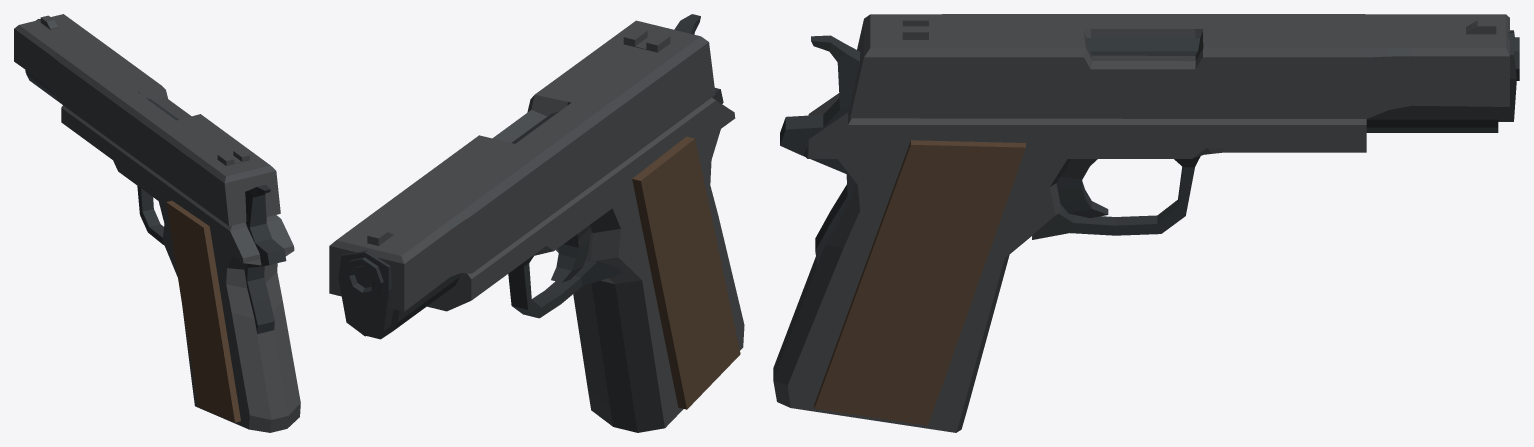
File: colt_1911.obj
The picture shows the model from 3 angles, left to right: view 1: azimuth 30°, elevation 25°; view 2: azimuth 150°, elevation 25°; view 3: azimuth 270°, elevation 25°; orthographic projection. The views are drawn at different scales.
Parts seen in each view (by area): view 1: Colt_1911_Cube; view 2: Colt_1911_Cube; view 3: Colt_1911_Cube.
Part boxes in pixels (x1=…): Colt_1911_Cube: x1=14, y1=14, x2=300, y2=432; Colt_1911_Cube: x1=329, y1=14, x2=744, y2=432; Colt_1911_Cube: x1=773, y1=14, x2=1519, y2=432.
Size of the model in its own units: 0.0432 by 0.1705 by 0.2883.
